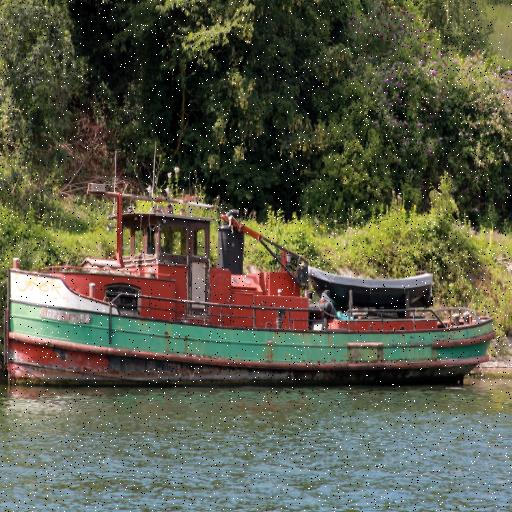tugboat: (2, 184, 501, 405)
